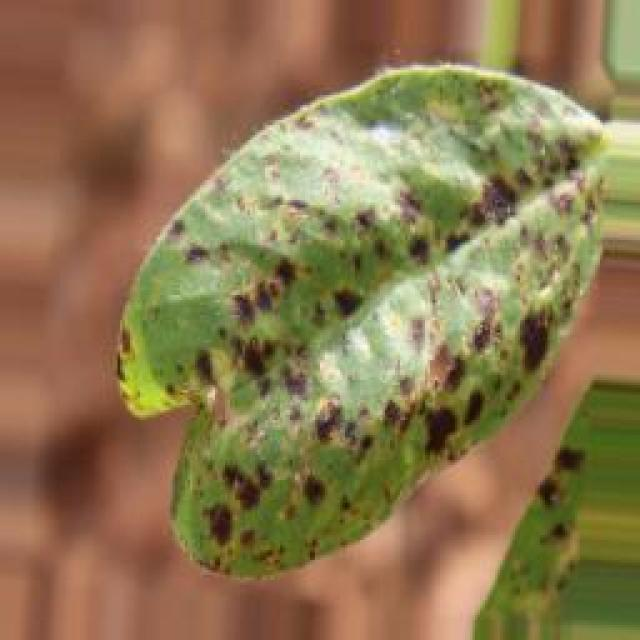Yellowish: (69, 32, 594, 592)
